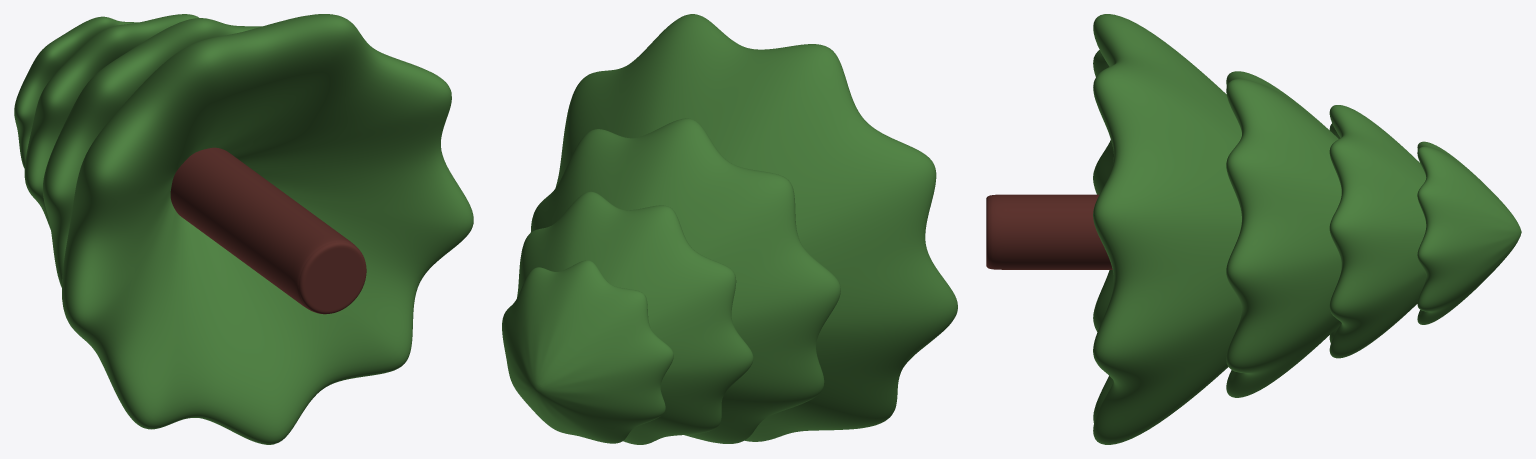
Rendered from Tree.fbx.
3 views of the same model, side by side, from view 1: azimuth 30°, elevation 25°; view 2: azimuth 150°, elevation 25°; view 3: azimuth 270°, elevation 25° (orthographic). The views are drawn at different scales.
Visible parts, largest first — view 1: Trunk; view 2: Trunk; view 3: Trunk.
Boxes of the visible parts, bbox=[...] form: Trunk: bbox=[14, 14, 473, 444]; Trunk: bbox=[502, 14, 957, 444]; Trunk: bbox=[986, 14, 1521, 444].
Size of the model in its own units: 1570 by 1531 by 1927.
